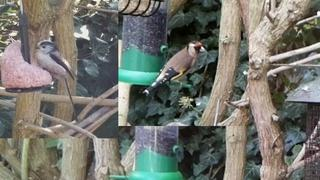goldfinch: (141, 40, 209, 99)
long tailed tit: (35, 40, 78, 123)
